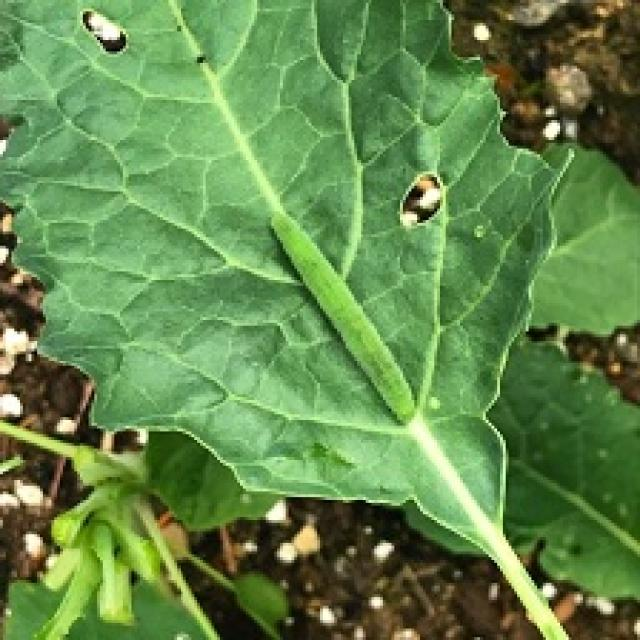Cabbage-worm: (264, 199, 425, 432)
